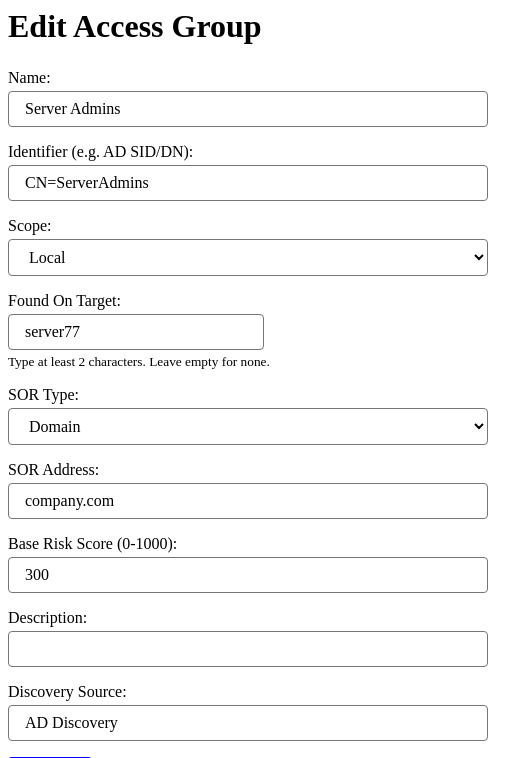
Scenario: AccessGroupEdit.vue › does not load the targets list at all, and searches instead
The width and height of the screenshot is (505, 758).
Replace the text in the dropdown named "Found on target" with "server12" at (136, 332), box [8,314,264,350]
Wait 250 ms
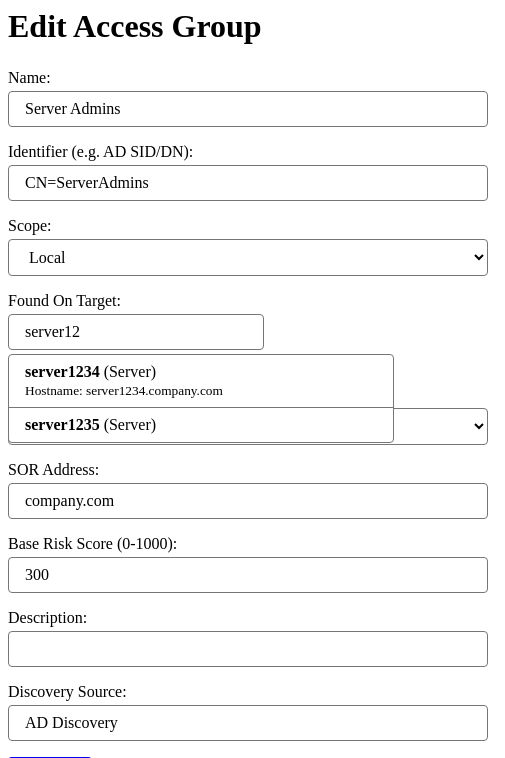
Now the option "server1234 (Server)Hostname: server1234.company.com" is shown, box [9,355,393,408]
